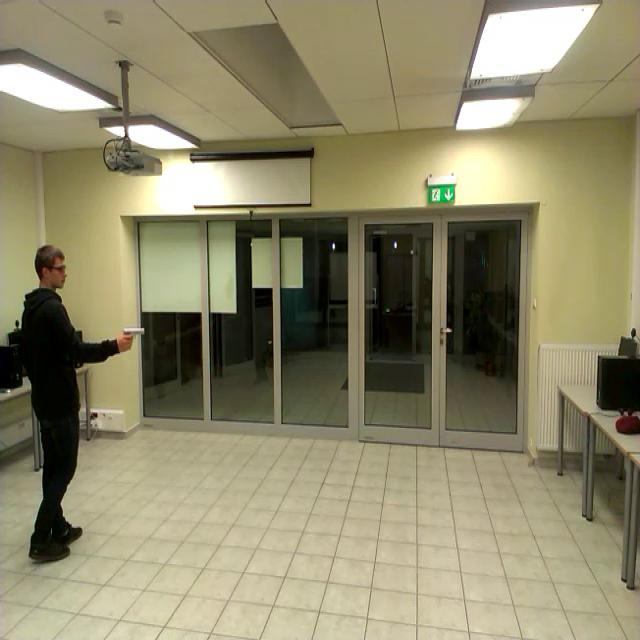handgun: (118, 316, 151, 359)
